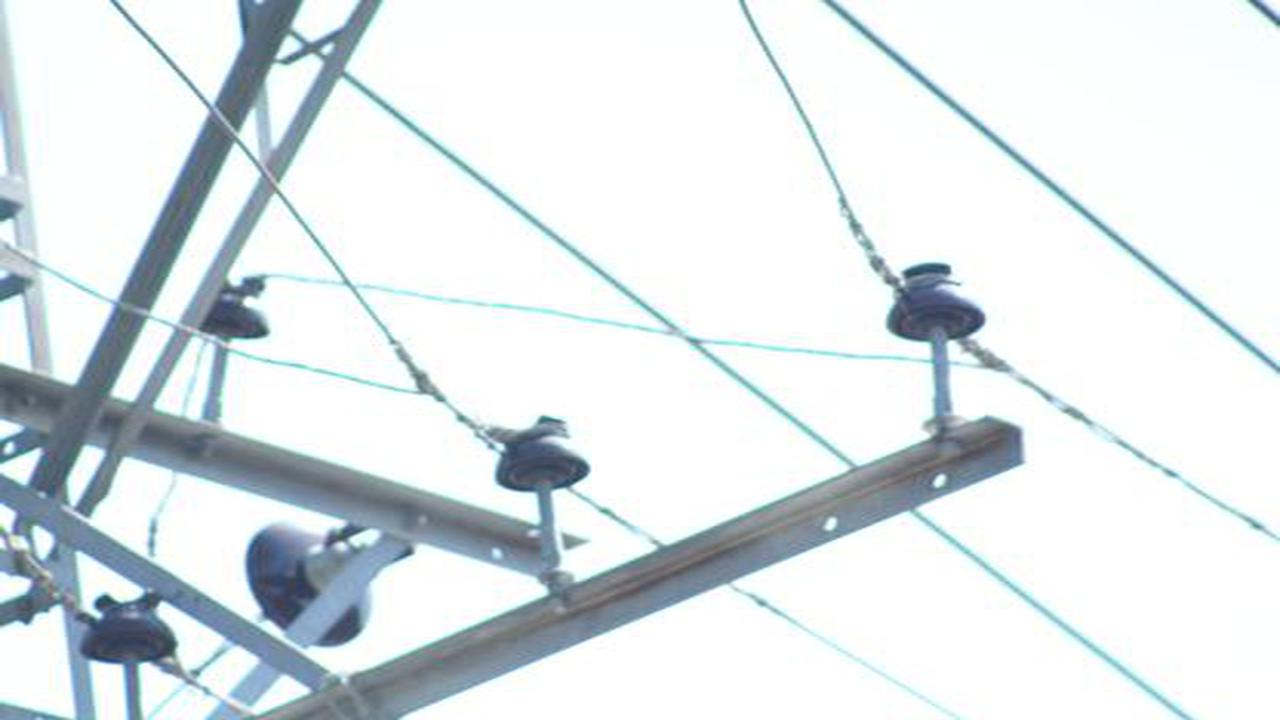insulator_disc: (244, 519, 381, 650)
insulator_pin: (883, 257, 990, 346), (77, 585, 187, 669), (489, 412, 592, 494), (199, 269, 275, 347)
